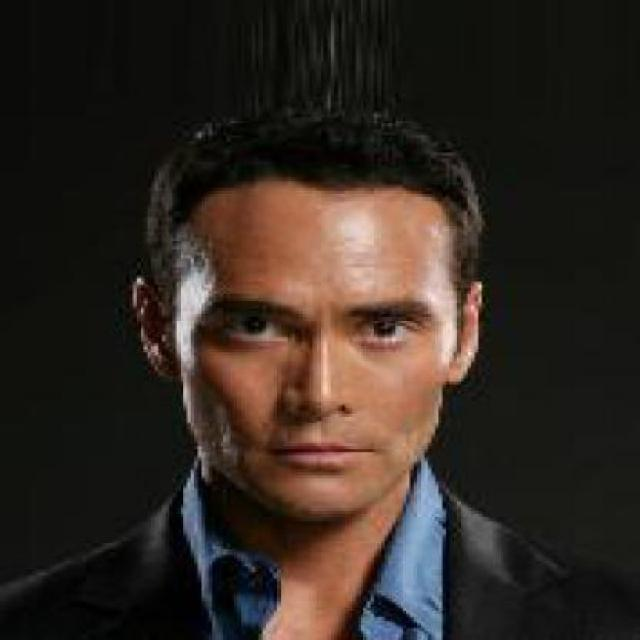closed-mouth: (266, 438, 372, 466)
